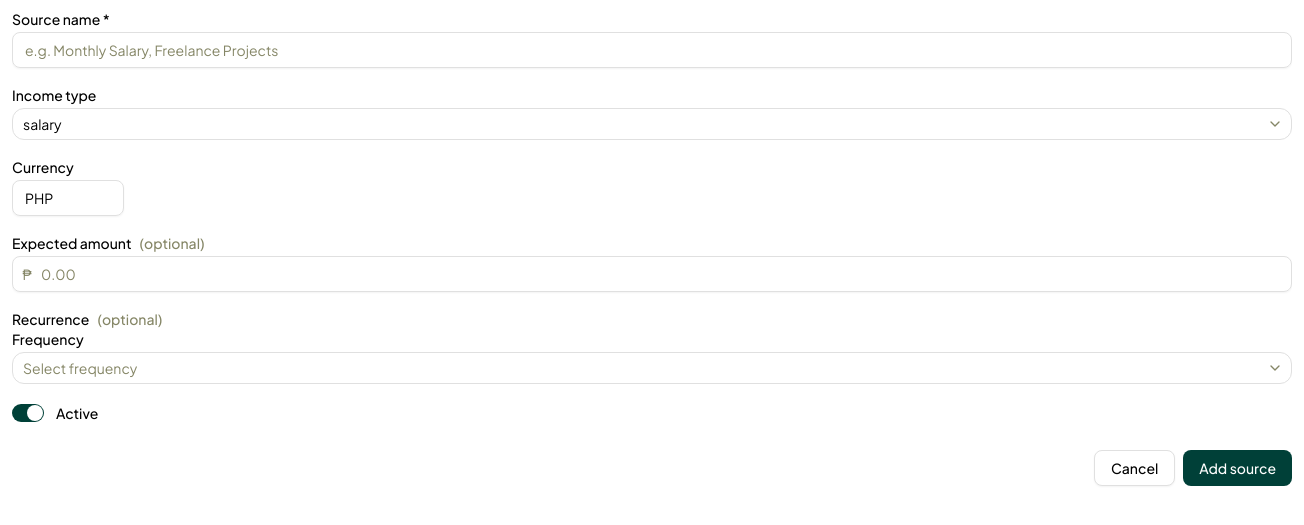
Test case: IncomeSourceForm › shows error when name is empty
Click the button "Add source": (1238, 468) [1183,450,1292,486]
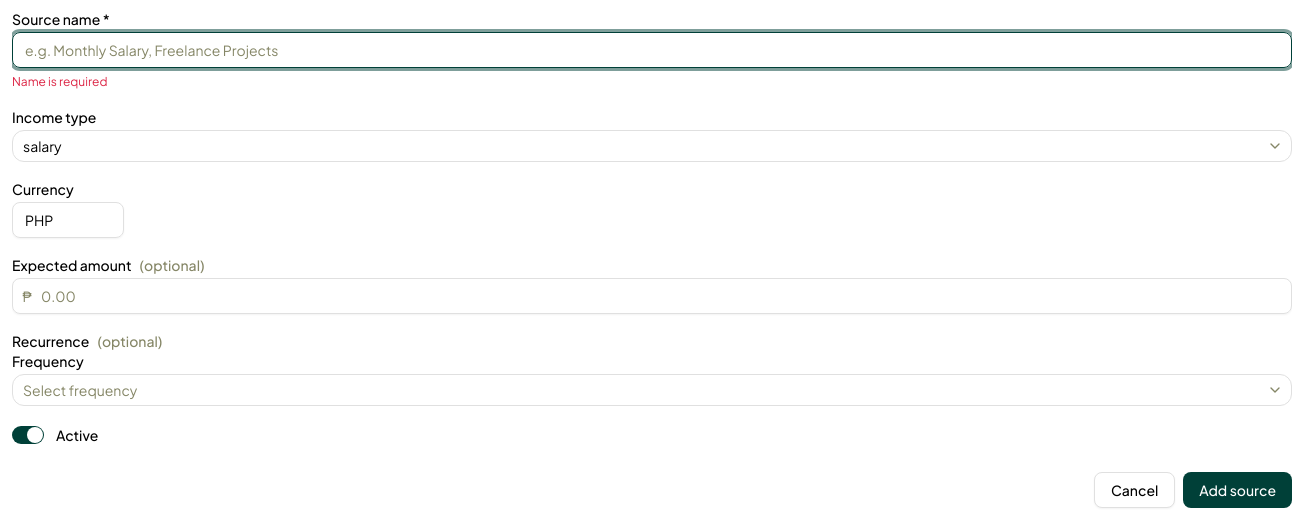
Now the text "Name is required" is shown, box [12,74,107,89]
